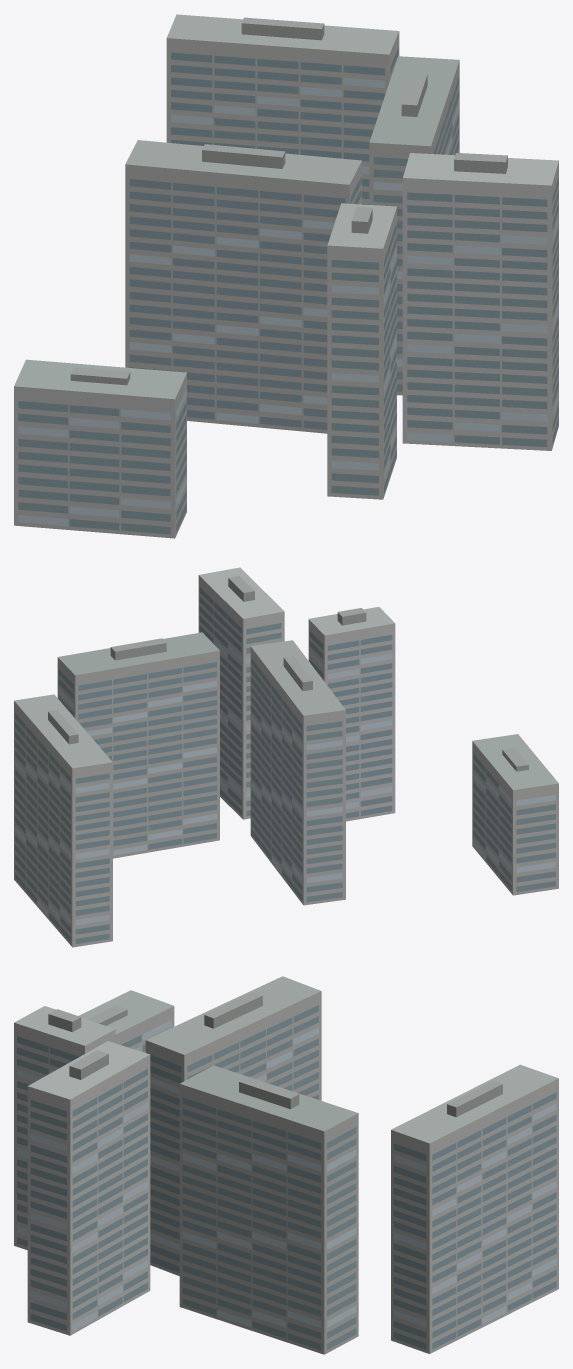
File: apt-a13920205.glb
3 views of the same model, one above another, from view 1: azimuth 30°, elevation 25°; view 2: azimuth 150°, elevation 25°; view 3: azimuth 270°, elevation 25° (orthographic). The views are drawn at different scales.
Parts seen in each view (by area): view 1: apt-a13920205; view 2: apt-a13920205; view 3: apt-a13920205.
Boxes of the visible parts, x1,y1,x2,y2 form: apt-a13920205: [14, 14, 558, 538]; apt-a13920205: [14, 567, 558, 947]; apt-a13920205: [14, 976, 558, 1354].
Size of the model in its own units: 119 by 57 by 114.
